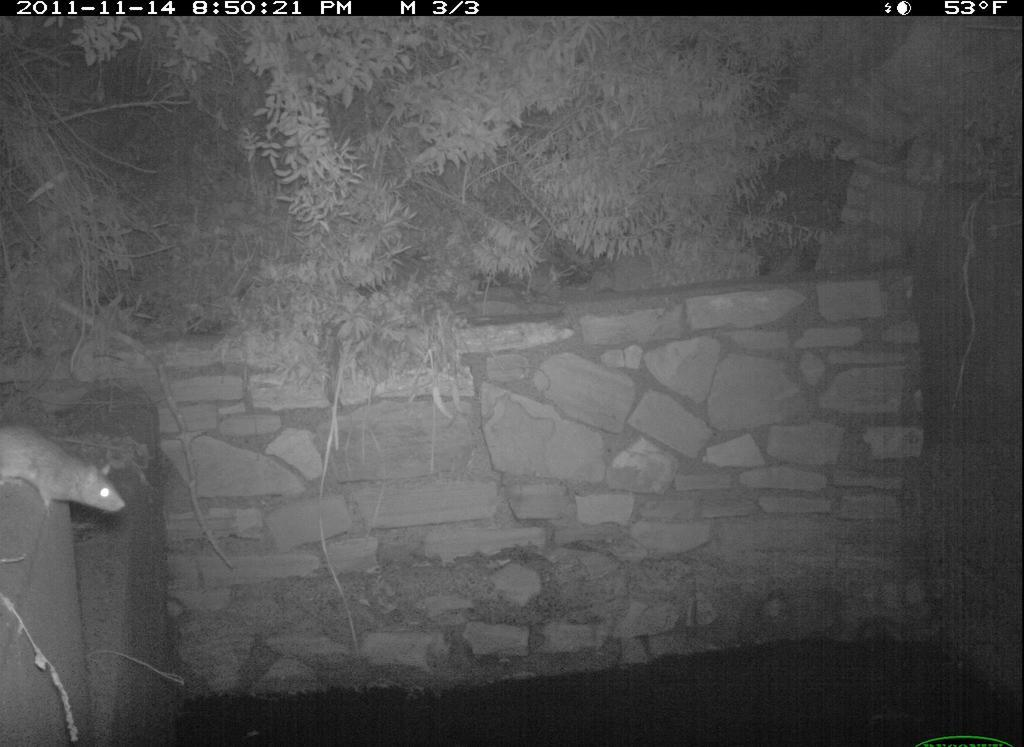rodent: (3, 415, 127, 536)
